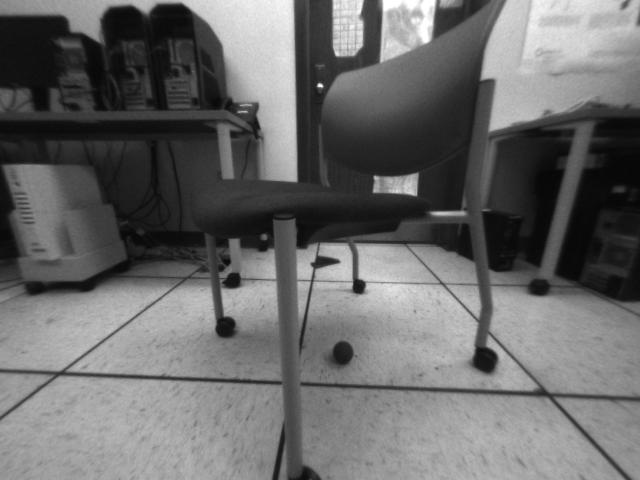dogtoy: (326, 329, 363, 372)
